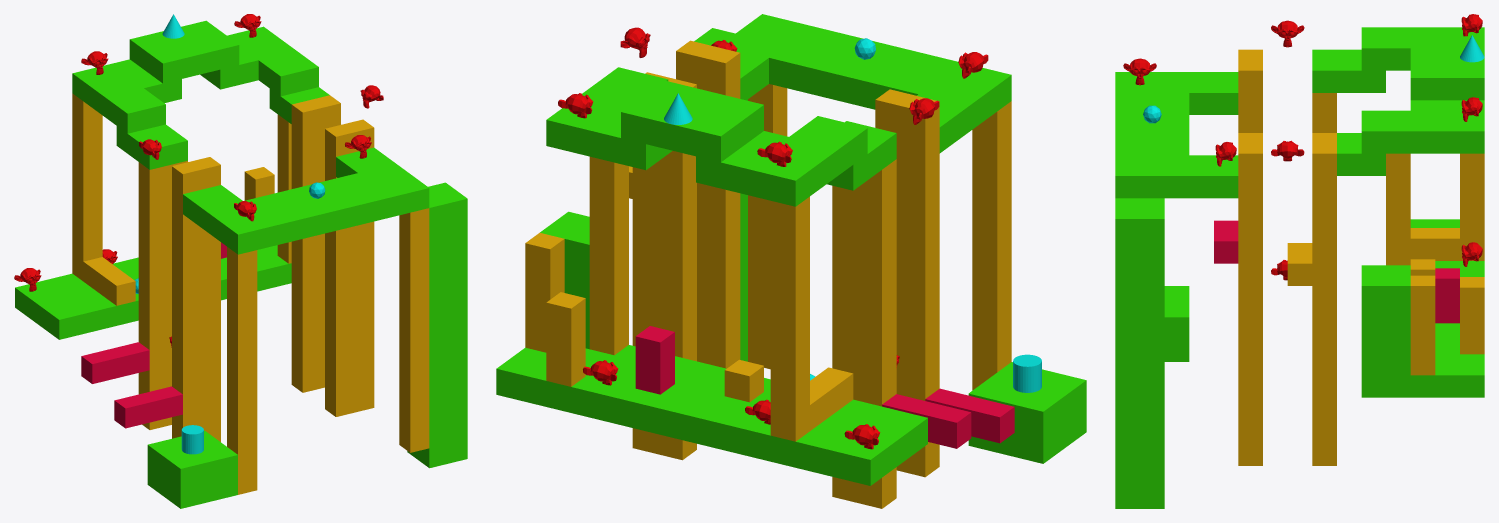
3 renders of one model, left to right at view 1: azimuth 30°, elevation 25°; view 2: azimuth 150°, elevation 25°; view 3: azimuth 270°, elevation 25°, orthographic. The views are drawn at different scales.
Parts seen in each view (by area): view 1: Cube.454, Cube.394, Cube.610, Cube.462, Cube.638, Cube.565, Cube.553, Cube.402, Cube.226, Cube.538, Cube.504, Cube.254 (+15 smaller); view 2: Cube.638, Cube.454, Cube.265, Cube.462, Cube.610, Cube.553, Cube.402, Cube.538, Cube.541, Cube.504, Cube.254, Cube.226 (+19 smaller); view 3: Cube.394, Cube.462, Cube.610, Cube.316, Cube.397, Cube.488, Cube.402, Cube.504, Cube.433, Cube.541, Cube.314, Cube.471 (+20 smaller).
Boxes of the visible parts, x1,y1,x2,y2 form: Cube.454: (172,157,220,441); Cube.394: (407,182,467,468); Cube.610: (325,119,374,416); Cube.462: (291,95,340,392); Cube.638: (138,160,187,429); Cube.565: (399,208,429,452); Cube.553: (227,247,257,494); Cube.402: (244,173,391,245); Cube.226: (147,430,237,508); Cube.538: (72,93,102,261); Cube.504: (129,20,239,83); Cube.254: (15,273,116,339); Cube.638: (832,159,896,508); Cube.454: (875,89,939,477); Cube.265: (546,345,795,467); Cube.462: (632,72,696,460); Cube.610: (676,40,740,368); Cube.553: (972,101,1011,390); Cube.402: (769,26,958,109); Cube.538: (770,196,809,415); Cube.541: (589,156,628,355); Cube.504: (621,80,763,162); Cube.254: (795,399,927,485); Cube.226: (968,362,1086,463); Cube.394: (1115,198,1164,508); Cube.462: (1312,133,1336,465); Cube.610: (1238,133,1262,465); Cube.316: (1361,265,1410,397); Cube.397: (1115,155,1238,198); Cube.488: (1361,110,1484,153); Cube.402: (1115,93,1189,155); Cube.504: (1410,36,1484,100); Cube.433: (1115,72,1238,114); Cube.541: (1386,153,1410,265); Cube.314: (1410,354,1484,397); Cube.471: (1312,49,1385,92).
Bounding box in the file's own units: 3037 × 3600 × 3000.
